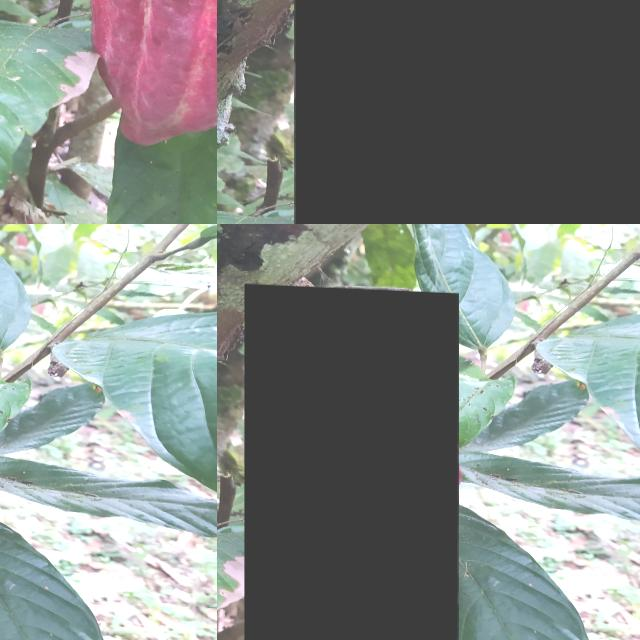Fitoftora: (294, 0, 640, 224)
Sana: (244, 282, 458, 640)
